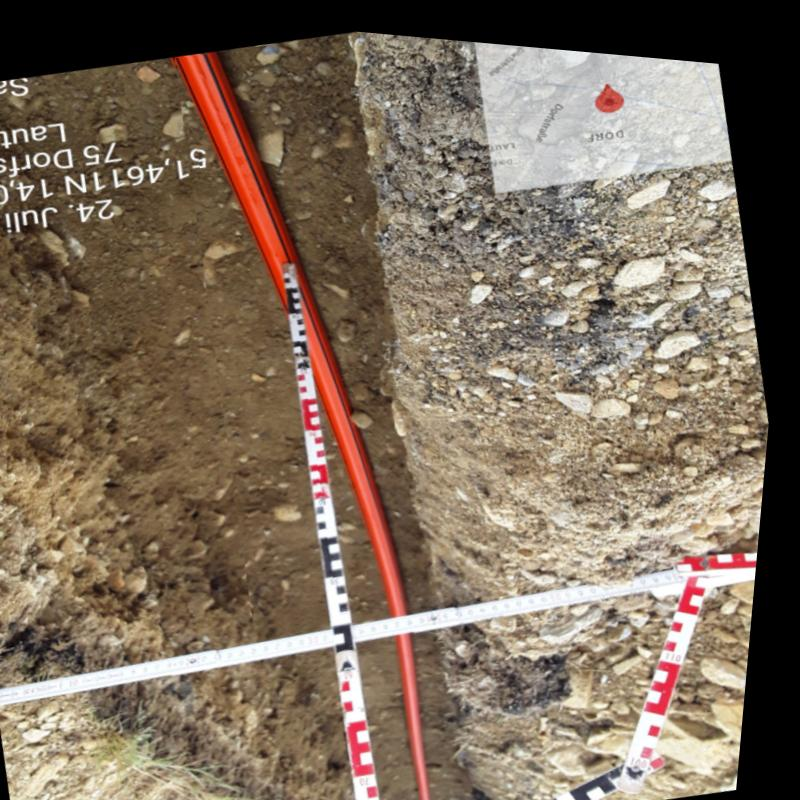Orang-Speednetrohrchen: (177, 48, 417, 606), (408, 624, 445, 800)
